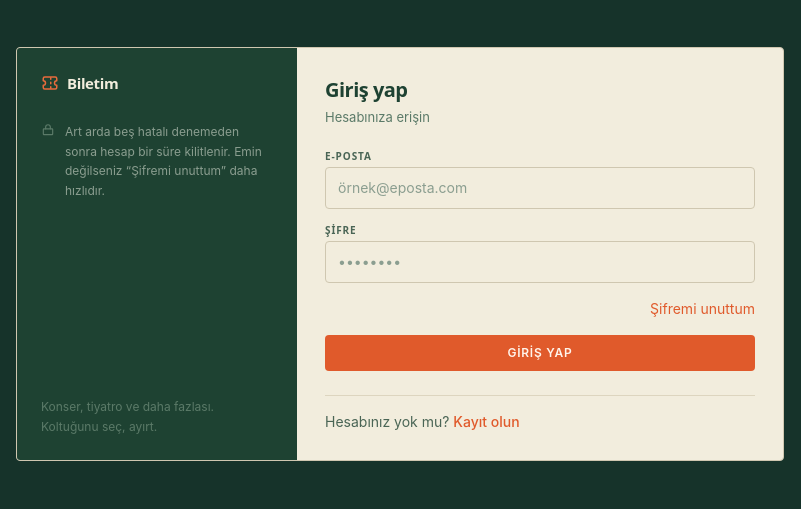
Test: LoginPage › hata sonrası tekrar denenebilir
The image size is (801, 509).
Type "test@ornek.com" into the field labelled "E-posta" at [540, 188], box [325,167,755,209]
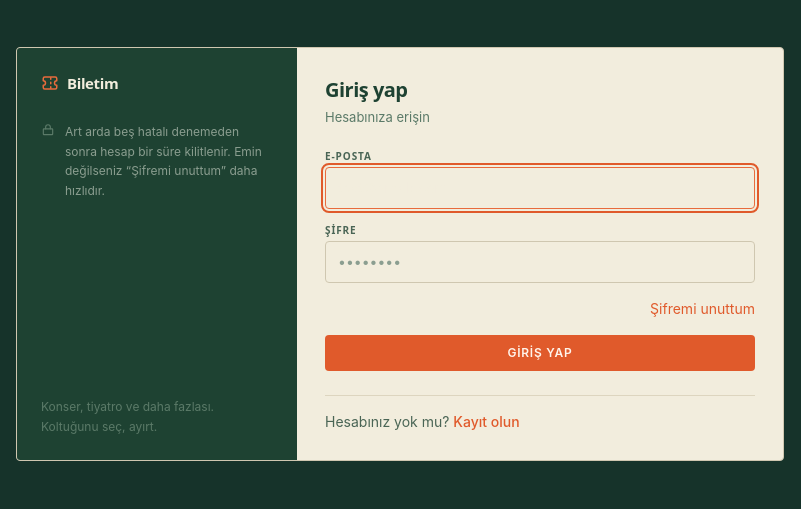
Type "Test1234!" into the password field labelled "Şifre" at [540, 262], box [325,241,755,283]
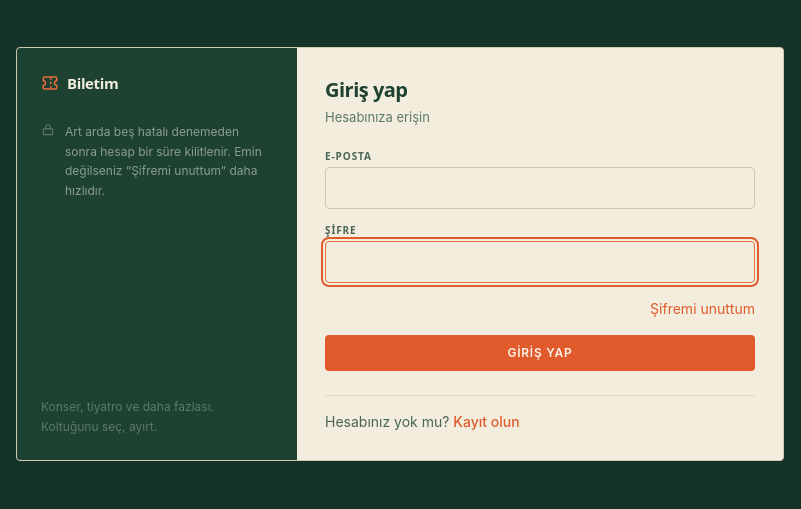
Click the button "Giriş yap" at [540, 353], box [325,335,755,371]
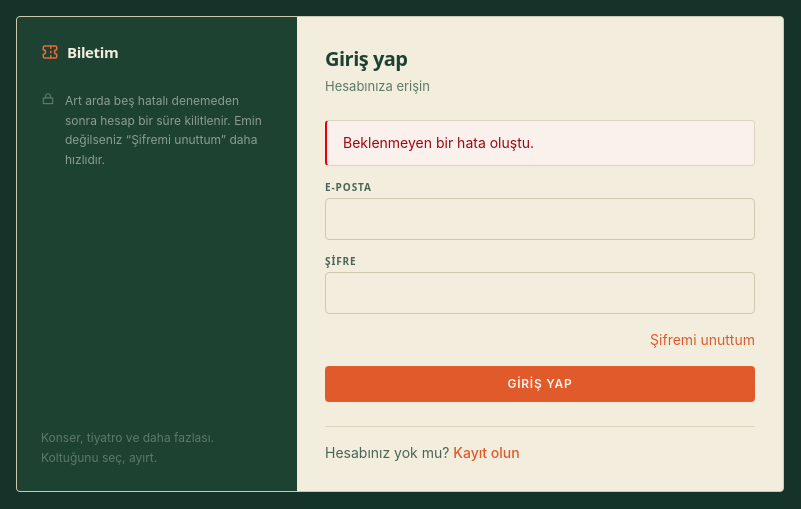
Expected: the button "Giriş yap" is enabled, [325,366,755,402]
Result: the message "Beklenmeyen bir hata oluştu." is shown at [325,120,755,166]
